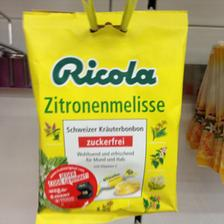Suessigkeit: (19, 10, 185, 220)
